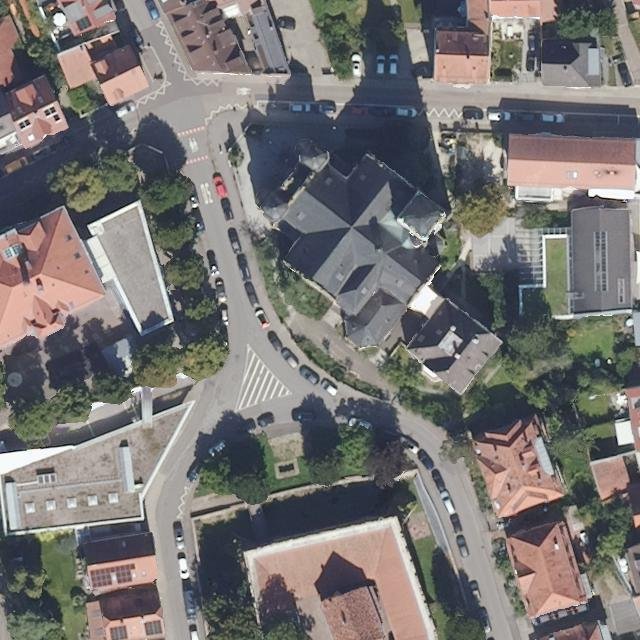PV: (88, 563, 136, 589), (42, 105, 62, 123), (146, 620, 163, 639), (110, 625, 127, 639), (17, 118, 32, 130)
